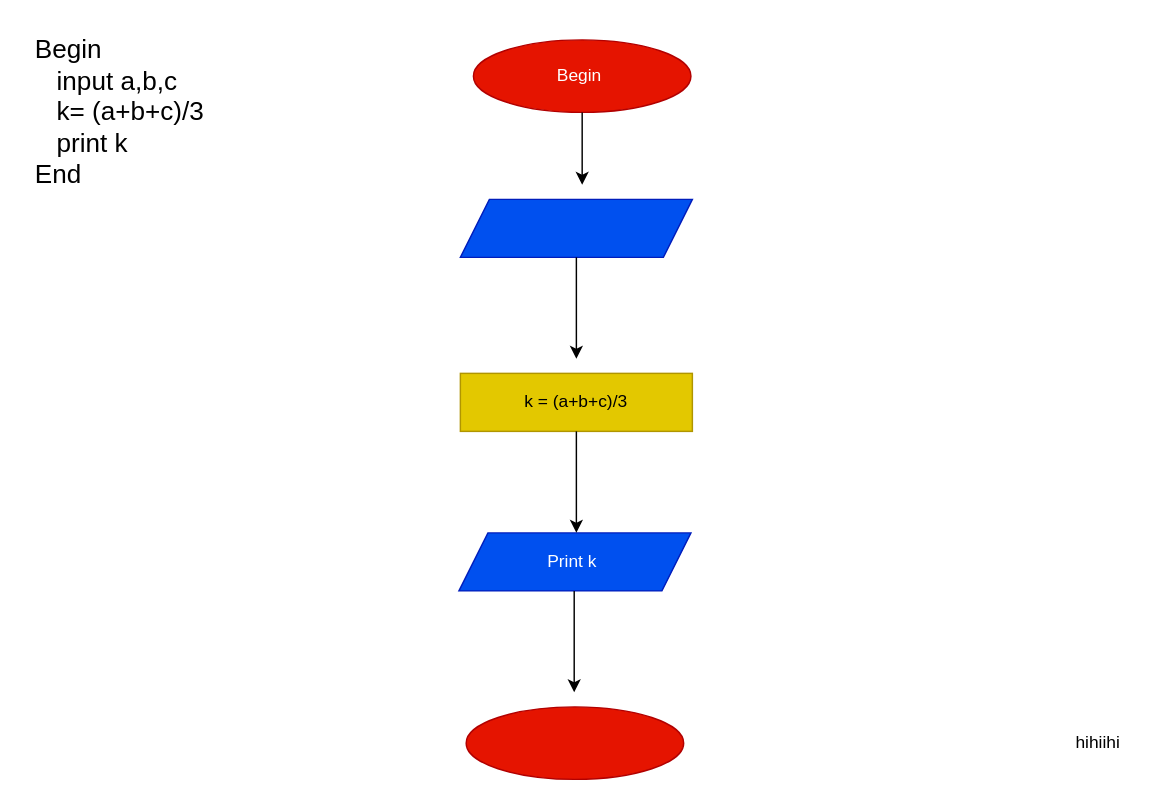
The diagram is 1166 pixels wide and 805 high, and some of its shapes have lost their labels. Here are the shapes that lost their labels. From the top down, the box of each, then its label:
(459, 198, 692, 257): Input a , b, c
(465, 705, 684, 779): End
